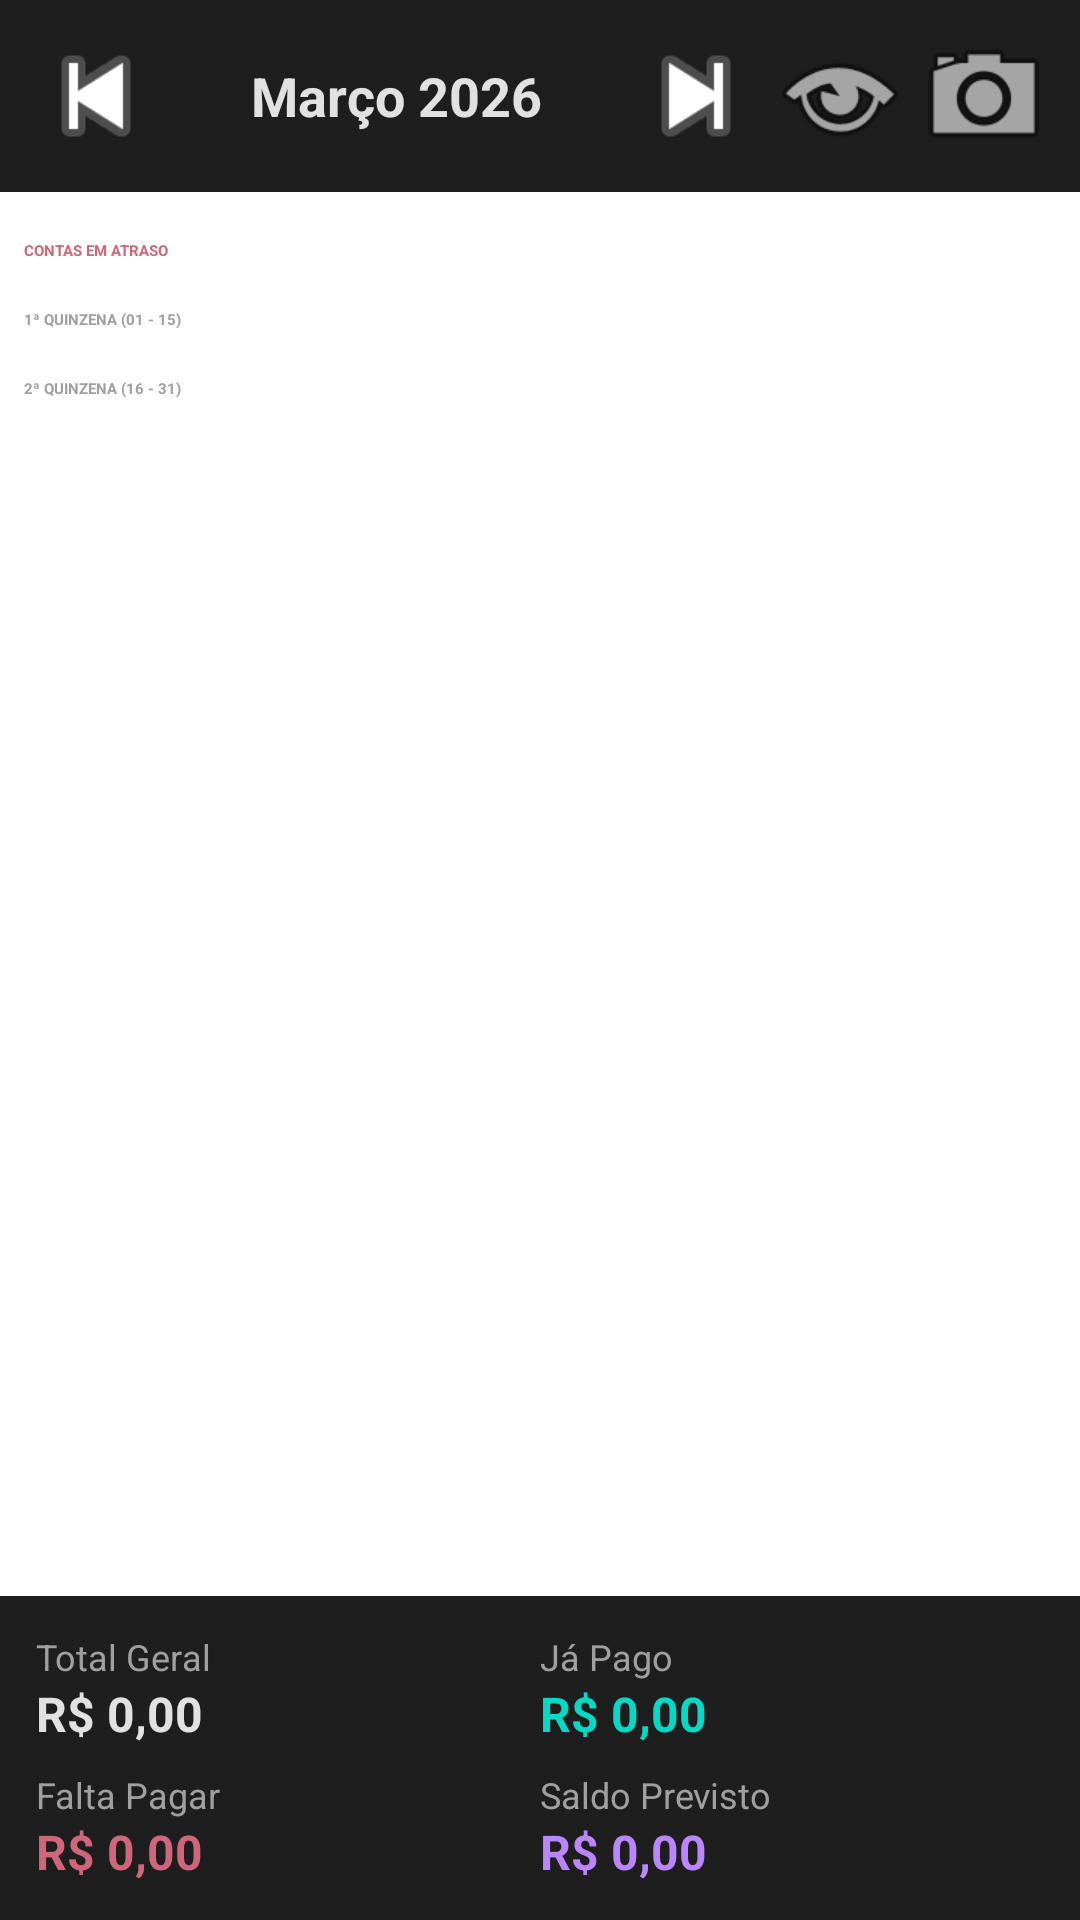

Screen size 1080 × 1920. Icon name, then its center in pixels as (x=x, y=y):
camera: (x=984, y=94)
next: (x=696, y=96)
previous: (x=96, y=96)
view: (x=840, y=99)
